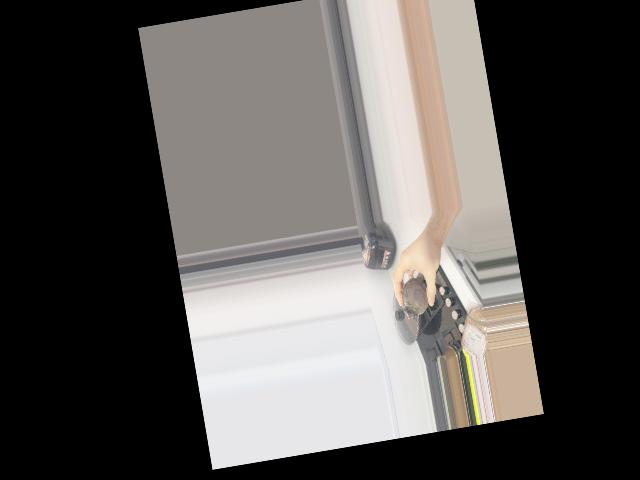beet: (399, 274, 431, 320)
